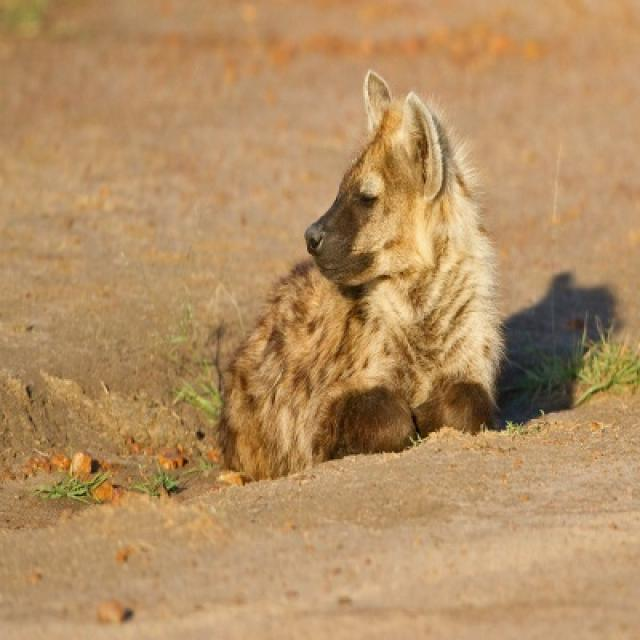hyena: (218, 70, 502, 480)
